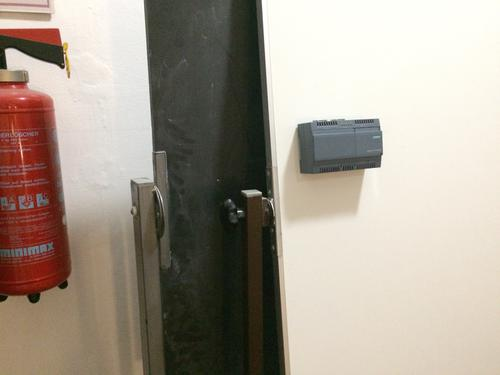iot2000: (296, 117, 384, 174)
